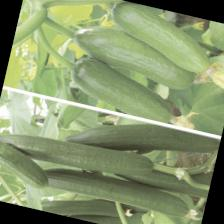cucumber: (64, 103, 220, 176), (0, 120, 157, 186), (67, 18, 202, 94), (39, 160, 192, 220), (102, 0, 219, 74), (64, 54, 182, 124), (0, 137, 56, 191)
